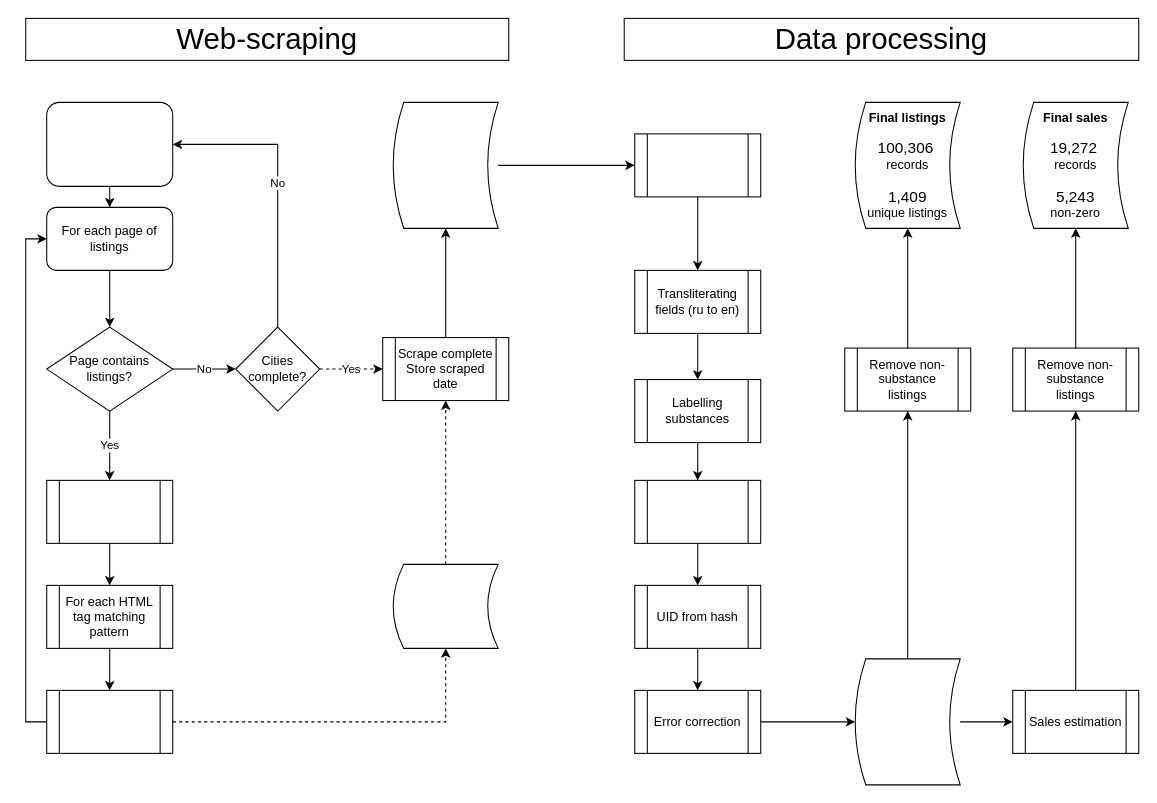
Image size: 1157x803. Some labels were removed from this diagram. The box of each missing label's shape, as (x1, y1, x2, y2) in pixels:
Consolidated listings 1 xlsx/csv file 116,276 records: (854, 658, 960, 785)
Consolidating files: (634, 133, 761, 197)
Directory of raw csv files: (392, 101, 498, 228)
For city in: Tbilisi, Batumi, Kutaisi, Anaklia: (46, 101, 173, 186)
Load listings HTML into memory: (46, 479, 173, 543)
Normalizing currency: (634, 479, 761, 543)
Single scrape file csv: (392, 563, 498, 648)
Store key fields and write to file: (46, 689, 173, 753)
